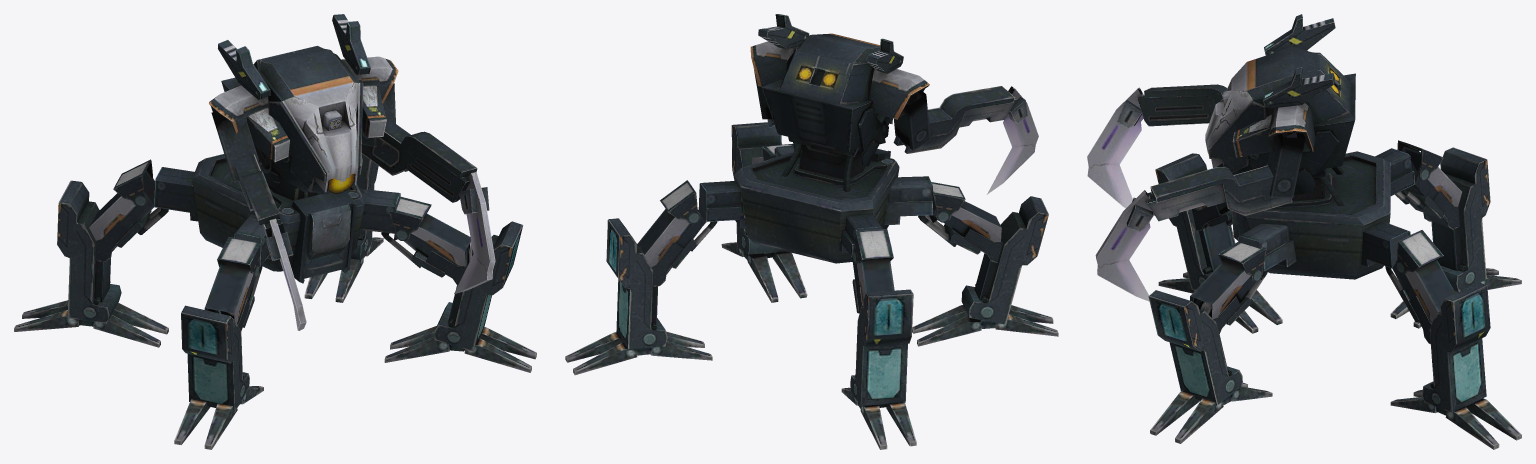
3 views of the same model, side by side, from view 1: azimuth 30°, elevation 25°; view 2: azimuth 150°, elevation 25°; view 3: azimuth 270°, elevation 25° (orthographic). The views are drawn at different scales.
Parts seen in each view (by area): view 1: 20_10; view 2: 20_10; view 3: 20_10.
Boxes of the visible parts, box(x1,y1,x2,y2) form: 20_10: box(14, 14, 536, 449); 20_10: box(565, 14, 1058, 449); 20_10: box(1087, 14, 1521, 449).
Bounding box in the file's own units: 301 × 253 × 312.
